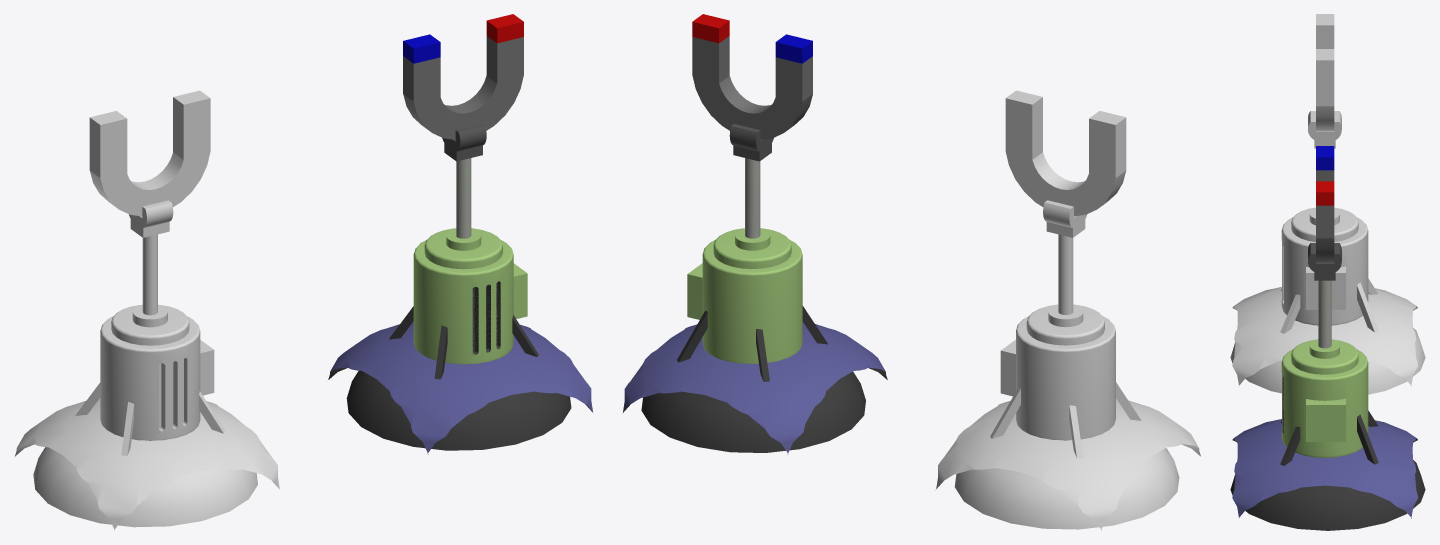
Rendered from Scrap Magnet.dae.
The picture shows the model from 3 angles, left to right: view 1: azimuth 30°, elevation 25°; view 2: azimuth 150°, elevation 25°; view 3: azimuth 270°, elevation 25°; orthographic projection. The views are drawn at different scales.
Parts seen in each view (by area): view 1: group_2, group_11, group_13 (×4), group_4 (×4), group_7, group_16 (×3), group_10, group_1, group_6, group_15; view 2: group_13 (×4), group_4 (×4), group_2, group_11, group_1, group_10, group_16 (×3), group_7, group_6, group_15; view 3: group_13 (×5), group_11, group_2, group_4 (×3), group_10, group_16 (×3), group_7, group_1, group_15, group_6, group_8, group_17 (+2 smaller).
Boxes of the visible parts, bbox=[...] form: group_2: bbox=[15, 398, 279, 529]; group_11: bbox=[330, 321, 592, 452]; group_13 (×4): bbox=[413, 158, 527, 364]; group_4 (×4): bbox=[100, 234, 214, 440]; group_7: bbox=[89, 90, 210, 216]; group_16 (×3): bbox=[403, 14, 523, 139]; group_10: bbox=[346, 370, 571, 450]; group_1: bbox=[33, 447, 257, 527]; group_6: bbox=[129, 200, 173, 237]; group_15: bbox=[453, 124, 486, 161]; group_13 (×4): bbox=[687, 158, 802, 364]; group_4 (×4): bbox=[1000, 234, 1115, 440]; group_2: bbox=[936, 398, 1200, 529]; group_11: bbox=[623, 322, 885, 452]; group_1: bbox=[954, 448, 1179, 529]; group_10: bbox=[641, 371, 865, 452]; group_16 (×3): bbox=[692, 14, 812, 139]; group_7: bbox=[1005, 90, 1126, 216]; group_6: bbox=[1043, 200, 1087, 237]; group_15: bbox=[729, 124, 762, 161]; group_13 (×5): bbox=[1281, 280, 1368, 457]; group_11: bbox=[1232, 419, 1417, 517]; group_2: bbox=[1232, 287, 1417, 385]; group_4 (×3): bbox=[1281, 207, 1368, 325]; group_10: bbox=[1230, 460, 1425, 530]; group_16 (×3): bbox=[1316, 146, 1334, 263]; group_7: bbox=[1316, 14, 1334, 131]; group_1: bbox=[1230, 328, 1425, 394]; group_15: bbox=[1308, 243, 1341, 280]; group_6: bbox=[1308, 111, 1341, 148]; group_8: bbox=[1357, 282, 1378, 332]; group_17: bbox=[1357, 414, 1378, 464].
Bounding box in the file's own units: 91.69 × 35.25 × 64.1.
